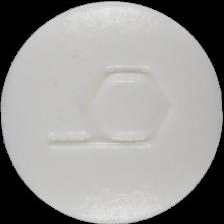0093-5454: (0, 0, 224, 224)
